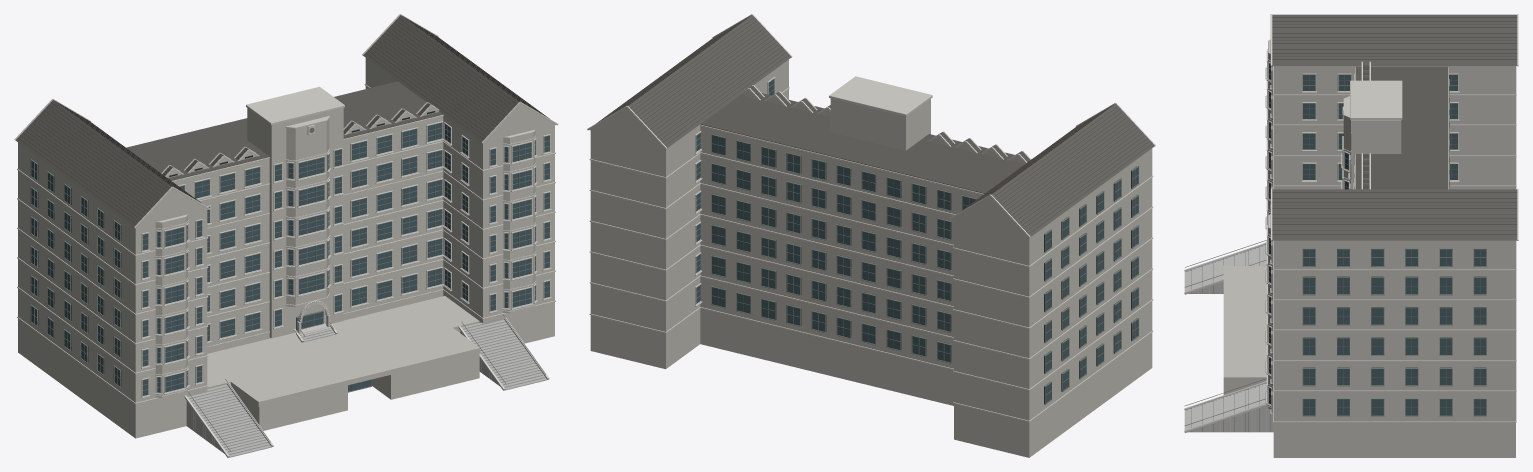
3 renders of one model, left to right at view 1: azimuth 30°, elevation 25°; view 2: azimuth 150°, elevation 25°; view 3: azimuth 270°, elevation 25°, orthographic. The views are drawn at different scales.
Visible parts, largest first — view 1: end-projecting-wings-estimated-depth__stone, long-main-stone-mass__stone, end-large-pediments-slopes__roof, main-front-window-columns__glass, estimated-upper-forecourt-platform__stone, front-terrace-over-door__stone, estimated-main-flat-roof__roof, estimated-raised-building-foundation__stone, wide-terrace-side-stairs__concrete, central-high-tower__stone, end-slight-polygonal-bay-core__stone, main-front-window-columns__trim (+32 smaller); view 2: end-projecting-wings-estimated-depth__stone, long-main-stone-mass__stone, estimated-raised-building-foundation__stone, end-large-pediments-slopes__roof, estimated-main-rear-windows__glass, estimated-main-flat-roof__roof, estimated-main-rear-windows__frame, end-large-pediments-roof-courses__roofline, end-wing-belts__trim, estimated-end-outer-windows__glass, main-floor-bands__trim, estimated-end-outer-windows__frame (+9 smaller); view 3: end-projecting-wings-estimated-depth__stone, end-large-pediments-slopes__roof, estimated-end-outer-windows__glass, estimated-main-flat-roof__roof, estimated-raised-building-foundation__stone, end-large-pediments-roof-courses__roofline, front-terrace-over-door__stone, wide-terrace-side-stairs__concrete, end-wing-belts__trim, estimated-end-outer-windows__frame, tower-crown__trim, central-high-tower__stone (+12 smaller).
Boxes of the visible parts, x1,y1,x2,y2 form: end-projecting-wings-estimated-depth__stone: (18,58,554,408); long-main-stone-mass__stone: (173,116,443,351); end-large-pediments-slopes__roof: (15,15,540,226); main-front-window-columns__glass: (179,122,442,341); estimated-upper-forecourt-platform__stone: (207,296,479,389); front-terrace-over-door__stone: (231,327,480,406); estimated-main-flat-roof__roof: (126,81,442,180); estimated-raised-building-foundation__stone: (18,294,554,438); wide-terrace-side-stairs__concrete: (186,319,547,457); central-high-tower__stone: (247,108,343,338); end-slight-polygonal-bay-core__stone: (155,131,535,397); main-front-window-columns__trim: (178,121,443,343); end-projecting-wings-estimated-depth__stone: (590,59,1152,426); long-main-stone-mass__stone: (700,126,982,374); estimated-raised-building-foundation__stone: (590,312,1152,457); end-large-pediments-slopes__roof: (628,15,1154,236); estimated-main-rear-windows__glass: (712,135,975,362); estimated-main-flat-roof__roof: (700,93,1031,193); estimated-main-rear-windows__frame: (711,134,976,363); end-large-pediments-roof-courses__roofline: (597,16,1152,233); end-wing-belts__trim: (589,87,1153,421); estimated-end-outer-windows__glass: (1045,167,1138,402); main-floor-bands__trim: (700,124,983,369); estimated-end-outer-windows__frame: (1044,166,1139,404); end-projecting-wings-estimated-depth__stone: (1273,66,1515,426); end-large-pediments-slopes__roof: (1272,14,1517,240); estimated-end-outer-windows__glass: (1303,249,1486,415); estimated-main-flat-roof__roof: (1355,66,1448,189); estimated-raised-building-foundation__stone: (1273,427,1515,457); end-large-pediments-roof-courses__roofline: (1272,17,1516,234); front-terrace-over-door__stone: (1223,266,1266,382); wide-terrace-side-stairs__concrete: (1184,245,1273,432); end-wing-belts__trim: (1273,66,1516,422); estimated-end-outer-windows__frame: (1302,248,1486,416); tower-crown__trim: (1350,80,1402,119); central-high-tower__stone: (1351,120,1401,189).
Bounding box in the file's own units: 70.73 × 39.22 × 46.95.
